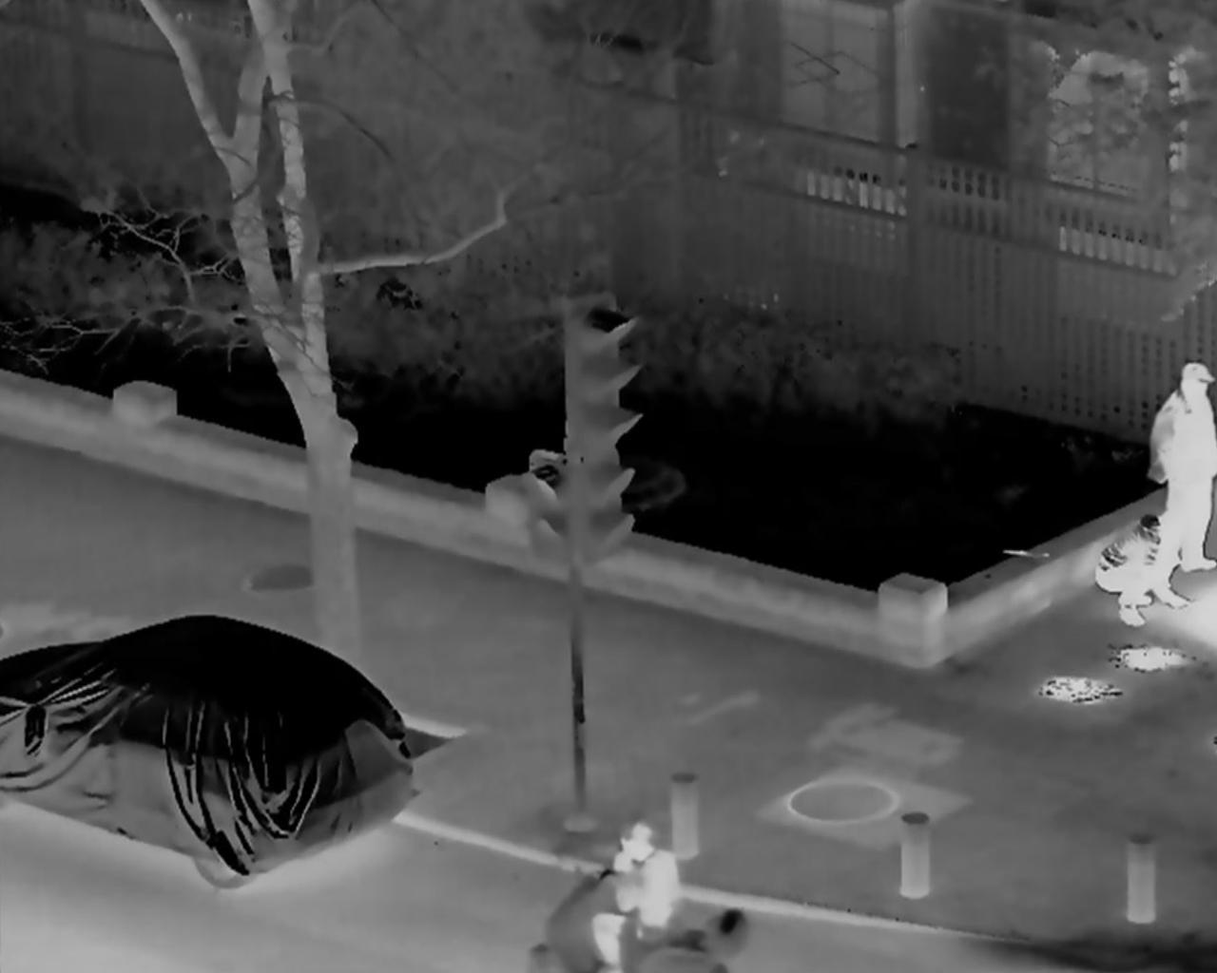person: (1150, 361, 1217, 567), (583, 822, 677, 963), (1093, 514, 1179, 636)
